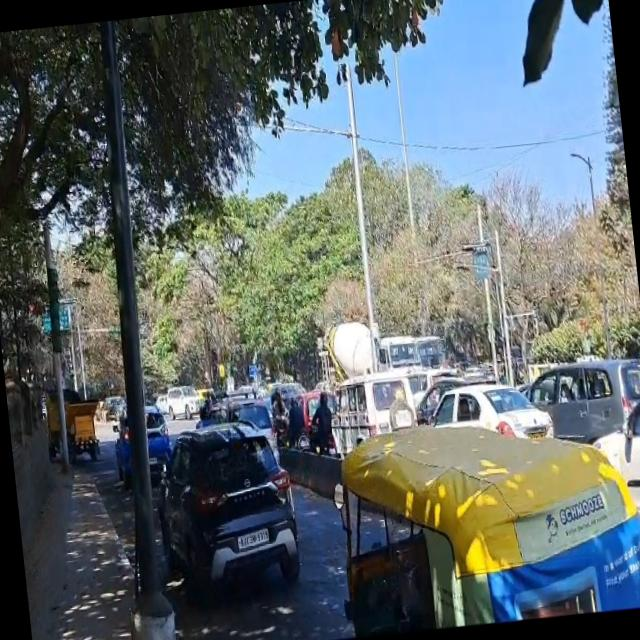cars: (150, 417, 306, 606), (423, 379, 556, 467), (531, 355, 640, 459), (327, 369, 421, 461), (166, 385, 206, 424)
